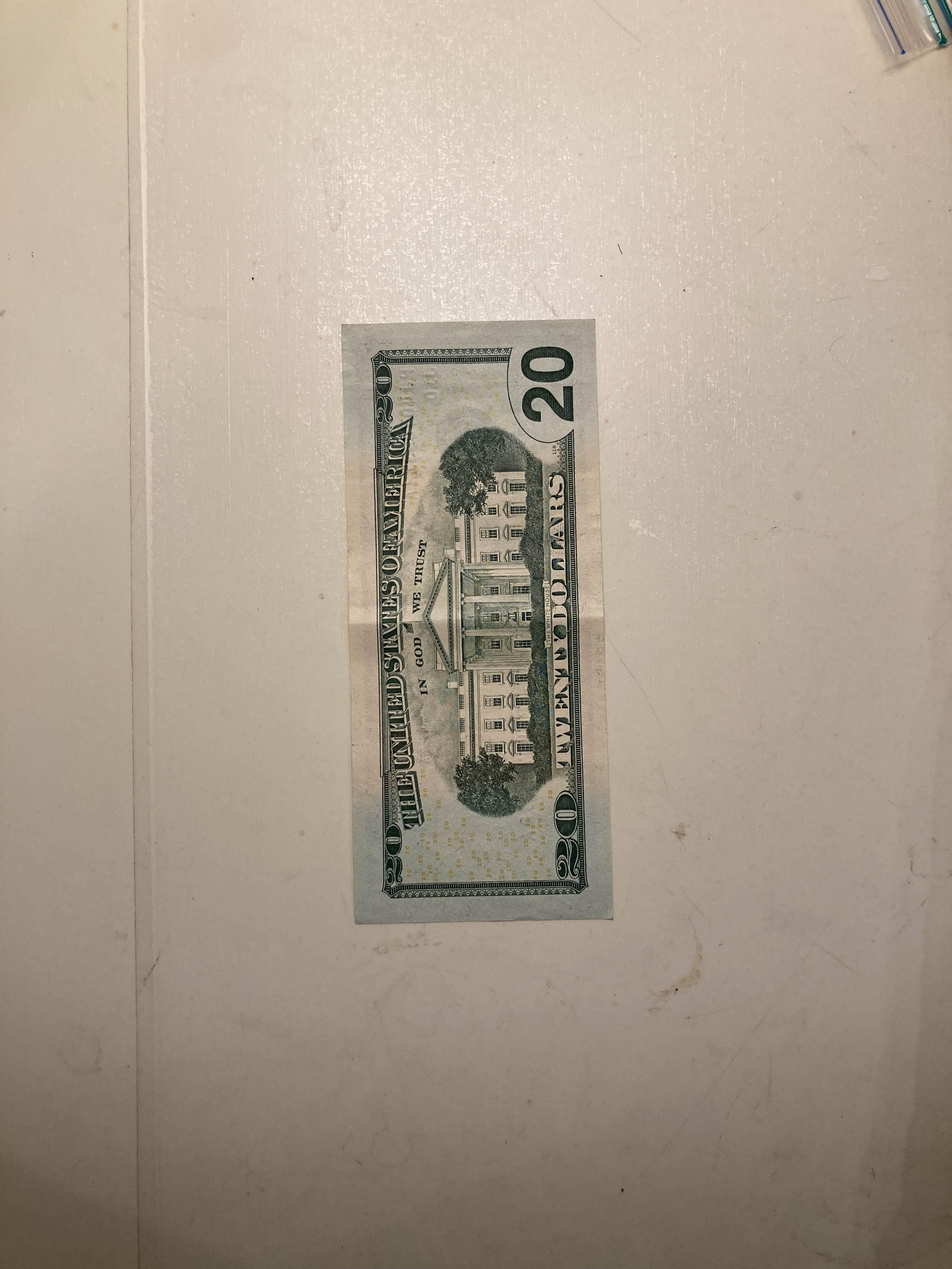twenty-back: (341, 320, 617, 923)
